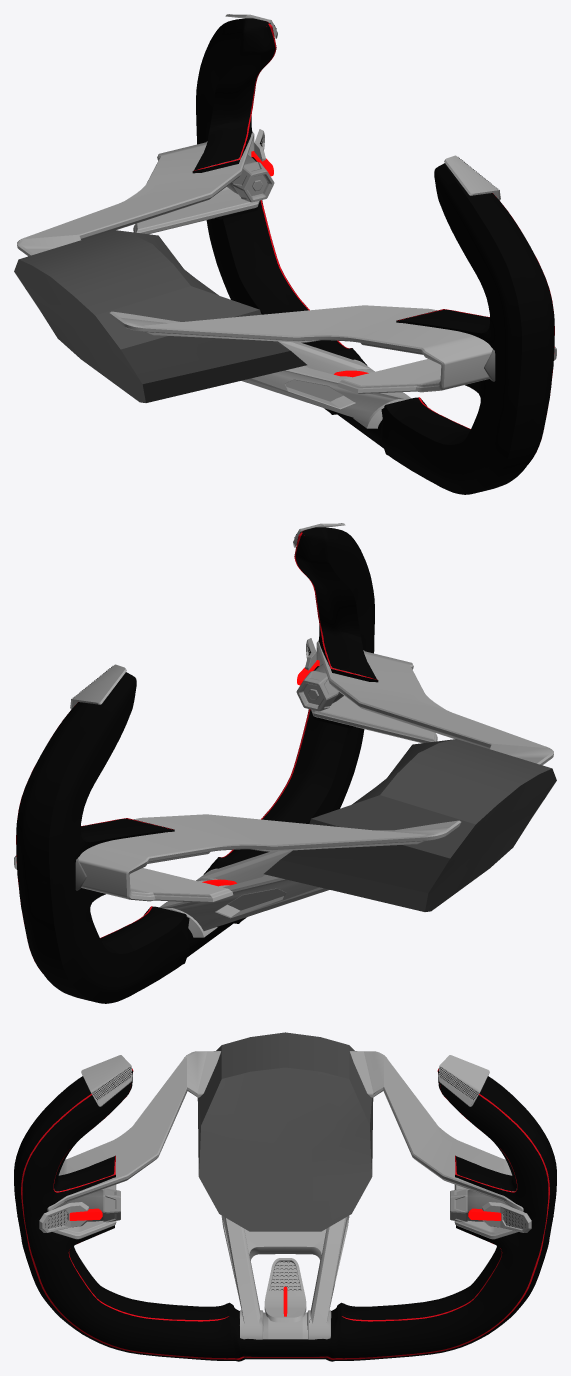
File: steering.gltf
3 views of the same model, one above another, from view 1: azimuth 30°, elevation 25°; view 2: azimuth 150°, elevation 25°; view 3: azimuth 270°, elevation 25° (orthographic). The views are drawn at different scales.
Visible parts, largest first — view 1: Plane_0, Cube.001_10, Cube_1, Circle_4, Cylinder_5, Plane.001_6, Plane.002_7; view 2: Plane_0, Cube.001_10, Cube_1, Circle_4, Cylinder_5, Plane.001_6, Plane.002_7; view 3: Plane_0, Cube.001_10, Cube_1, Circle_4, Plane.001_6, Plane.002_7, Cube.003_11, Plane.003_12, Cylinder_5.
Boxes of the visible parts, x1,y1,x2,y2 form: Plane_0: [192, 18, 554, 494]; Cube.001_10: [14, 230, 306, 402]; Cube_1: [17, 132, 492, 393]; Circle_4: [241, 341, 411, 428]; Cylinder_5: [206, 141, 495, 381]; Plane.001_6: [225, 14, 500, 200]; Plane.002_7: [194, 21, 554, 458]; Plane_0: [16, 527, 378, 1003]; Cube.001_10: [264, 739, 556, 911]; Cube_1: [78, 641, 553, 902]; Circle_4: [159, 850, 329, 937]; Cylinder_5: [75, 650, 364, 890]; Plane.001_6: [70, 523, 345, 709]; Plane.002_7: [16, 530, 376, 967]; Plane_0: [14, 1070, 556, 1361]; Cube.001_10: [197, 1032, 373, 1231]; Cube_1: [47, 1051, 523, 1239]; Circle_4: [221, 1216, 349, 1339]; Plane.001_6: [81, 1055, 489, 1106]; Plane.002_7: [21, 1068, 549, 1359]; Cube.003_11: [39, 1202, 531, 1232]; Plane.003_12: [264, 1258, 306, 1322]; Cylinder_5: [62, 1188, 508, 1222].
Size of what is drawn, in the model's own units: 2.36 by 2.2 by 3.7.
